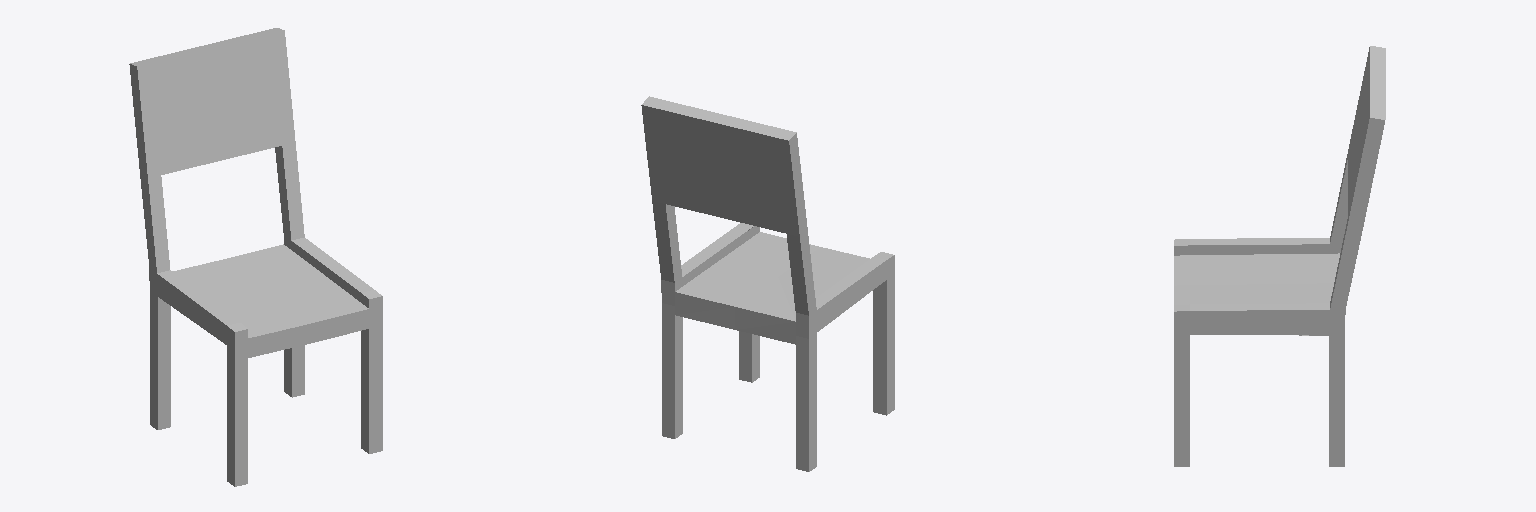
The model's file is ChairSS.obj.
The picture shows the model from 3 angles: view 1: azimuth 30°, elevation 25°; view 2: azimuth 150°, elevation 25°; view 3: azimuth 270°, elevation 25°; orthographic projection.
Visible parts, largest first — view 1: pCube1; view 2: pCube1; view 3: pCube1.
Boxes of the visible parts, box(x1,y1,x2,y2) form: pCube1: box(129, 28, 382, 486); pCube1: box(641, 96, 894, 471); pCube1: box(1174, 46, 1385, 466).
Bounding box in the file's own units: 1 × 2.26 × 1.24.